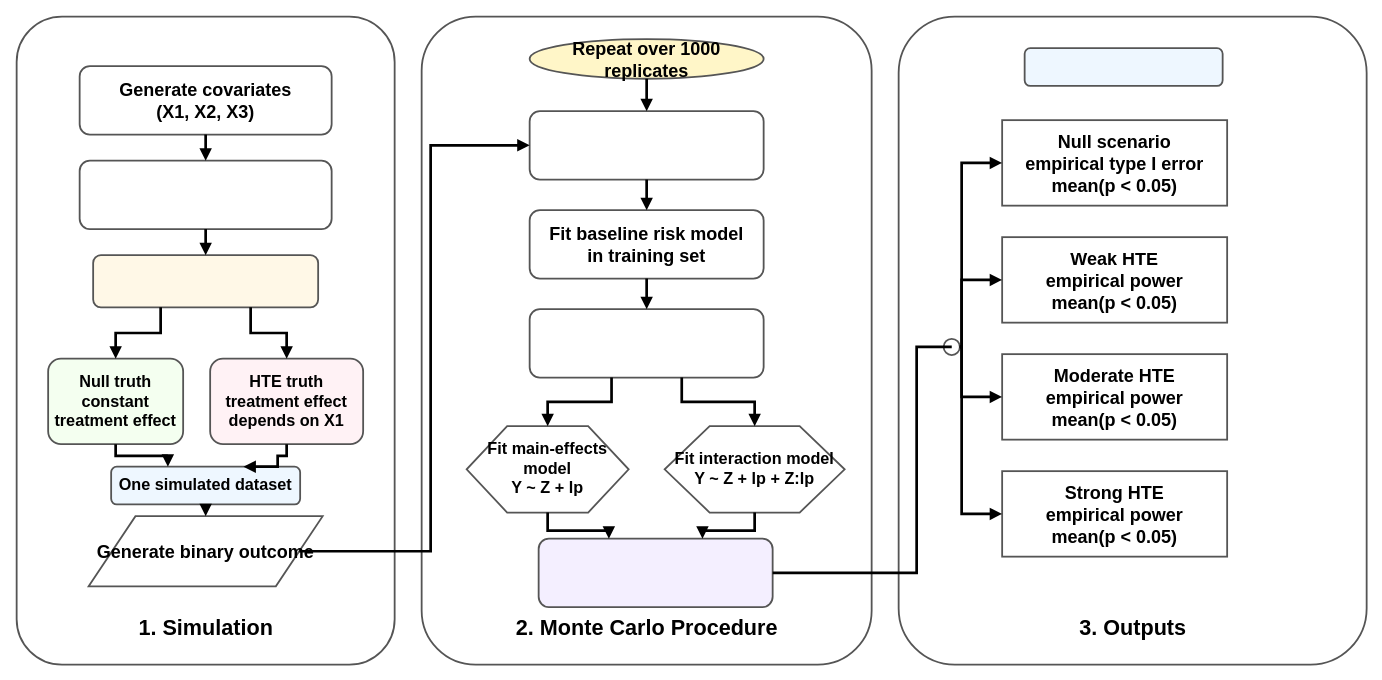
Some shapes in this 1382 by 680 pixel diagram are drawn without their labels. Here are the shapes that lost their labels. From the top down, the box of each, then its label:
(1023, 47, 1223, 86): Across simulation scenarios
(528, 110, 764, 180): Split into training and test sets
(78, 159, 332, 230): Randomize treatment (Z ~ Bernoulli 0.5)
(92, 254, 319, 308): Choose truth mechanism
(528, 308, 764, 378): Predict linear predictor (lp) in test set
(537, 537, 773, 608): Likelihood ratio test or interaction p-value
